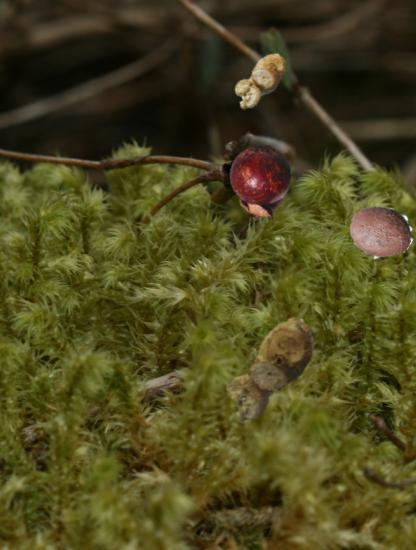Cocos: (349, 200, 414, 265)
Ginger: (211, 310, 332, 431), (226, 47, 294, 115)
Mangostan: (222, 143, 297, 218)
